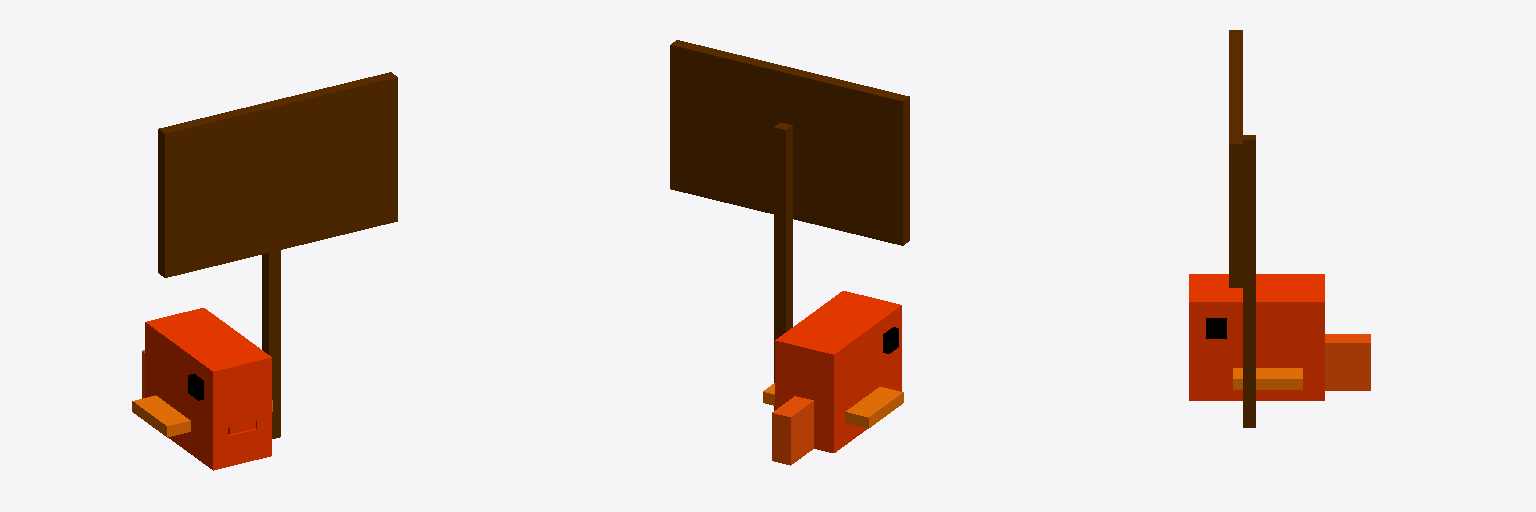
File: goldfish-sign.obj
3 renders of one model, left to right at view 1: azimuth 30°, elevation 25°; view 2: azimuth 150°, elevation 25°; view 3: azimuth 270°, elevation 25°, orthographic.
Parts seen in each view (by area): view 1: Mesh8 Group8 Model, Mesh7 Group1 Model, Mesh1 Group2 Group1 Model; view 2: Mesh8 Group8 Model, Mesh7 Group1 Model, Mesh6 Group7 Group1 Model, Mesh1 Group2 Group1 Model, Mesh5 Group6 Group1 Model; view 3: Mesh7 Group1 Model, Mesh8 Group8 Model, Mesh5 Group6 Group1 Model, Mesh3 Group4 Group1 Model.
Part boxes in pixels (x1,y1,x2,y2): Mesh8 Group8 Model: (158,72,397,438); Mesh7 Group1 Model: (145,308,271,470); Mesh1 Group2 Group1 Model: (132,395,190,437); Mesh8 Group8 Model: (670,40,909,410); Mesh7 Group1 Model: (775,291,901,452); Mesh6 Group7 Group1 Model: (781,398,813,465); Mesh1 Group2 Group1 Model: (845,387,903,428); Mesh5 Group6 Group1 Model: (772,396,803,462); Mesh7 Group1 Model: (1189,274,1324,400); Mesh8 Group8 Model: (1229,30,1255,427); Mesh5 Group6 Group1 Model: (1325,339,1370,390); Mesh3 Group4 Group1 Model: (1233,368,1302,389).
Bounding box in the file's own units: 1.97 × 2.74 × 1.34.